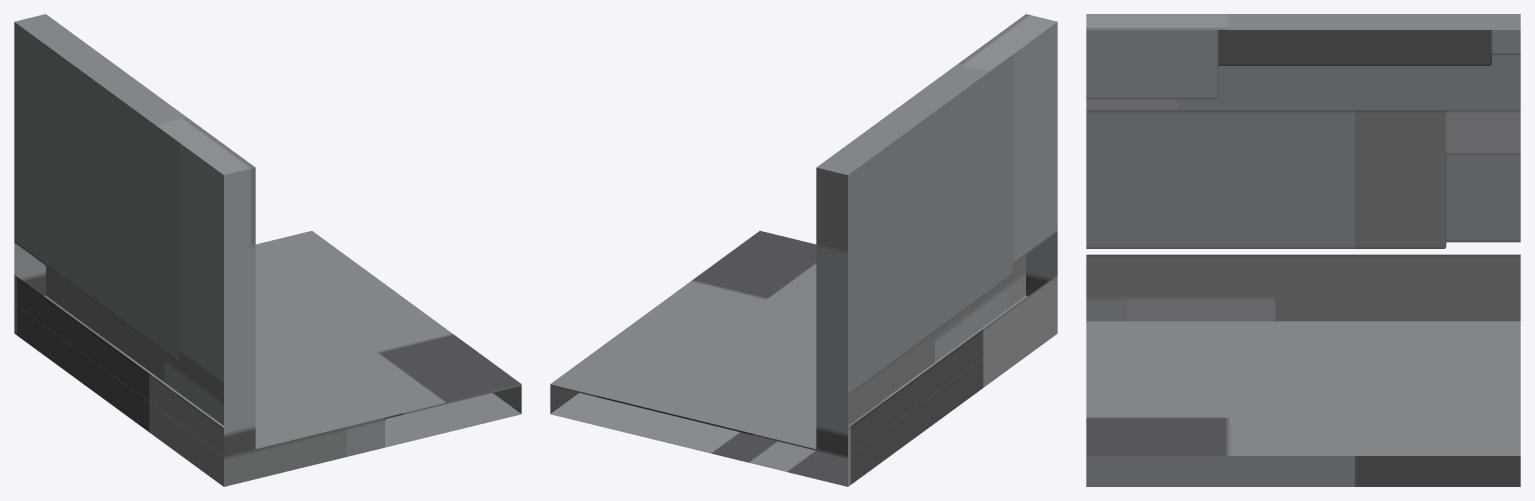
3 renders of one model, left to right at view 1: azimuth 30°, elevation 25°; view 2: azimuth 150°, elevation 25°; view 3: azimuth 270°, elevation 25°, orthographic. The views are drawn at different scales.
Size of the model in its own units: 0.97 by 0.9699 by 1.18.
